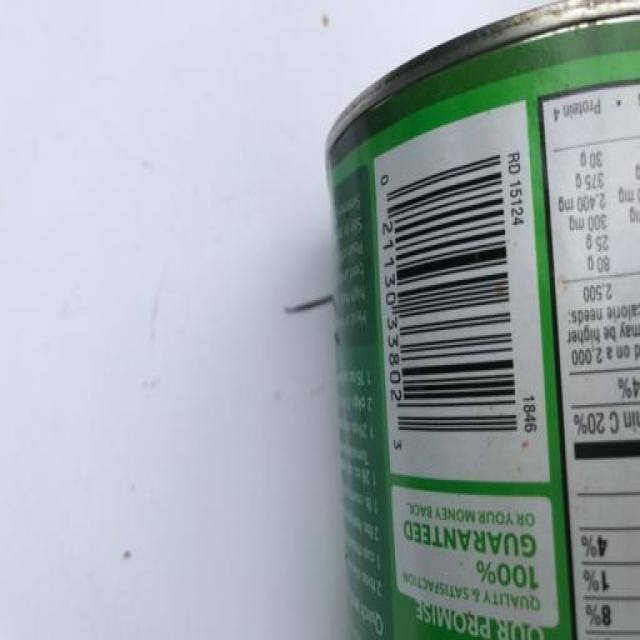metel: (315, 1, 640, 640)
